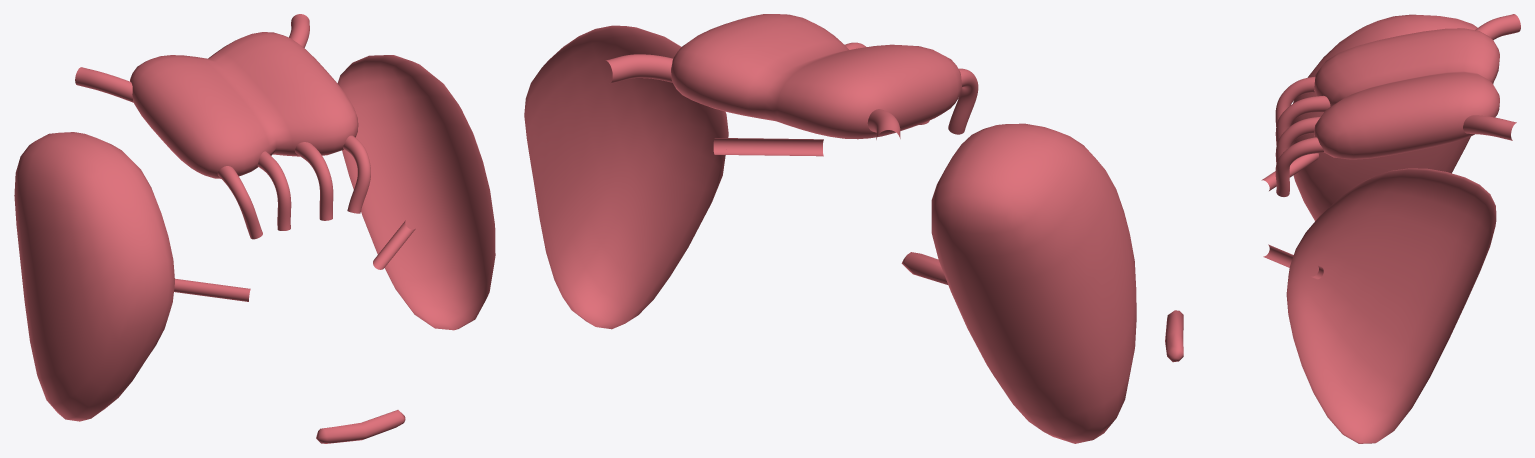
File: head__vascular.f73fbb1d15.glb
3 views of the same model, side by side, from view 1: azimuth 30°, elevation 25°; view 2: azimuth 150°, elevation 25°; view 3: azimuth 270°, elevation 25° (orthographic). The views are drawn at different scales.
Parts seen in each view (by area): view 1: Cavernous sinus.r, Cavernous sinus.l, Basilar venous plexus, Anterior communicating artery; view 2: Cavernous sinus.r, Cavernous sinus.l, Basilar venous plexus, Anterior communicating artery; view 3: Cavernous sinus.l, Basilar venous plexus, Cavernous sinus.r, Anterior communicating artery.
Boxes of the visible parts, x1,y1,x2,y2 form: Cavernous sinus.r: (14, 132, 250, 421); Cavernous sinus.l: (337, 55, 495, 330); Basilar venous plexus: (75, 14, 370, 239); Anterior communicating artery: (316, 410, 405, 443); Cavernous sinus.r: (931, 123, 1136, 443); Cavernous sinus.l: (524, 25, 823, 329); Basilar venous plexus: (605, 14, 978, 139); Anterior communicating artery: (901, 252, 947, 284); Cavernous sinus.l: (1263, 168, 1496, 443); Basilar venous plexus: (1275, 14, 1520, 196); Cavernous sinus.r: (1261, 14, 1493, 220); Anterior communicating artery: (1165, 310, 1183, 362).
Bounding box in the file's own units: 35.46 × 22.12 × 24.44.
